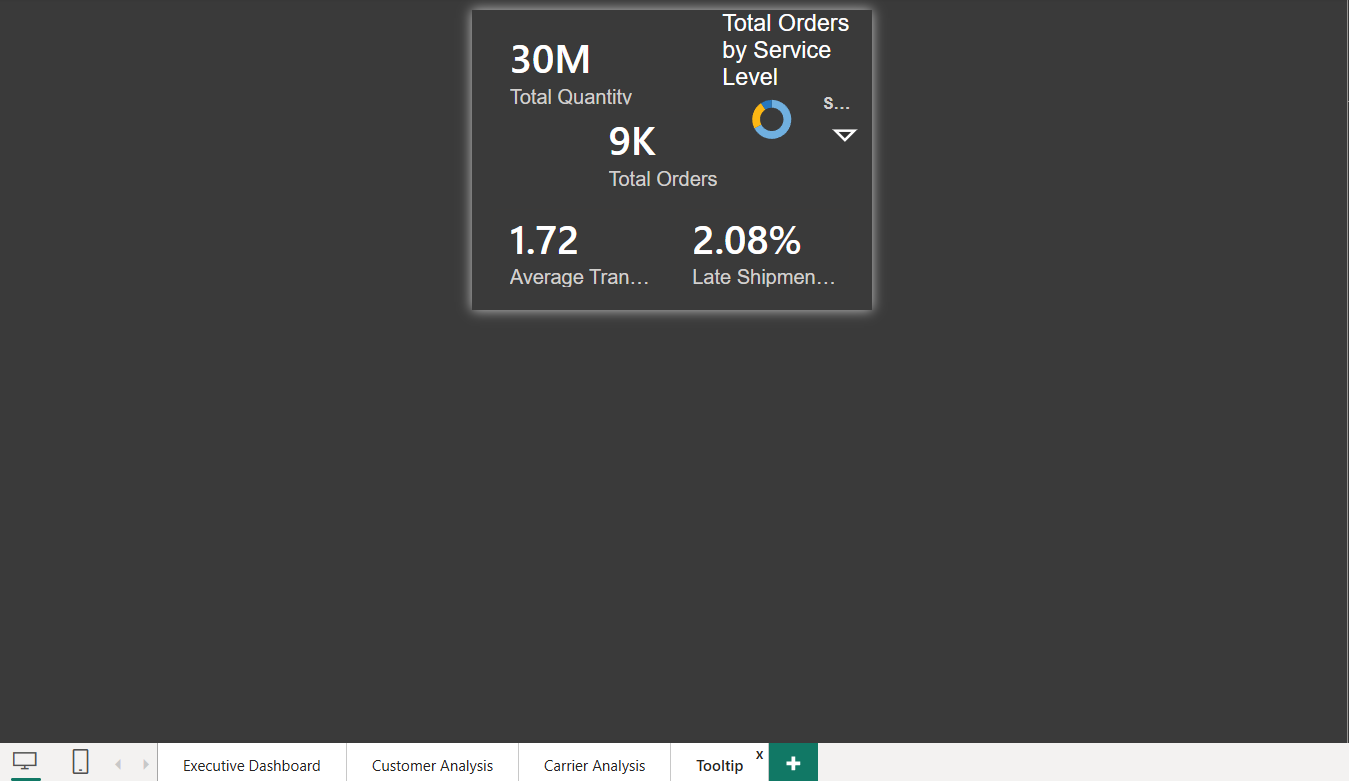

Layout of this report page (visuals, bound fields, positions):
{"tool":"powerbi","page":{"name":"Tooltip","canvas":[320,240],"ordinal":3},"visuals":[{"type":"cardVisual","fields":{"Data":["ameasures.Total Orders"]},"box":[79,63,150,99],"z":0},{"type":"cardVisual","fields":{"Data":["ameasures.Total Quantity"]},"box":[0,0,158,94],"z":1000},{"type":"cardVisual","fields":{"Data":["ameasures.Average Transit Time"]},"box":[0,142,172,98],"z":2000},{"type":"cardVisual","fields":{"Data":["ameasures.Late Shipment%"]},"box":[146,142,174,98],"z":3000},{"type":"donutChart","fields":{"Category":["OrderList.Service Level"],"Y":["ameasures.Total Orders"]},"box":[195,0,125,113],"z":4000}]}

Visuals, with their boxes on the page's 320x240 design canvas (x1, y1, x2, y2). These are canvas units, not pixel positions in the 1349x781 screenshot, which may show the page scaled, cropped or inside an application window:
cardVisual - ameasures.Total Orders: (x1=79, y1=63, x2=229, y2=162)
cardVisual - ameasures.Total Quantity: (x1=0, y1=0, x2=158, y2=94)
cardVisual - ameasures.Average Transit Time: (x1=0, y1=142, x2=172, y2=240)
cardVisual - ameasures.Late Shipment%: (x1=146, y1=142, x2=320, y2=240)
donutChart - OrderList.Service Level x ameasures.Total Orders: (x1=195, y1=0, x2=320, y2=113)
